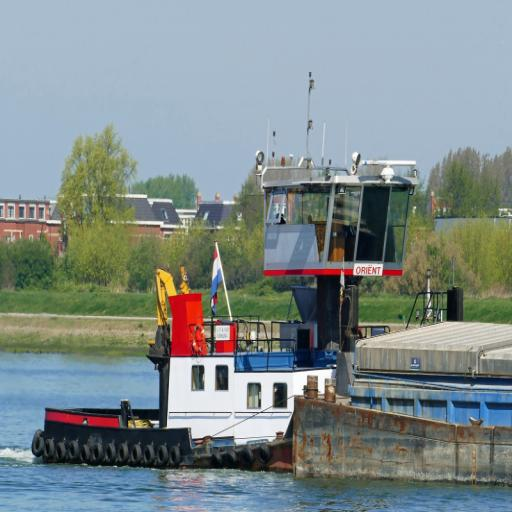tugboat: (30, 151, 474, 480)
